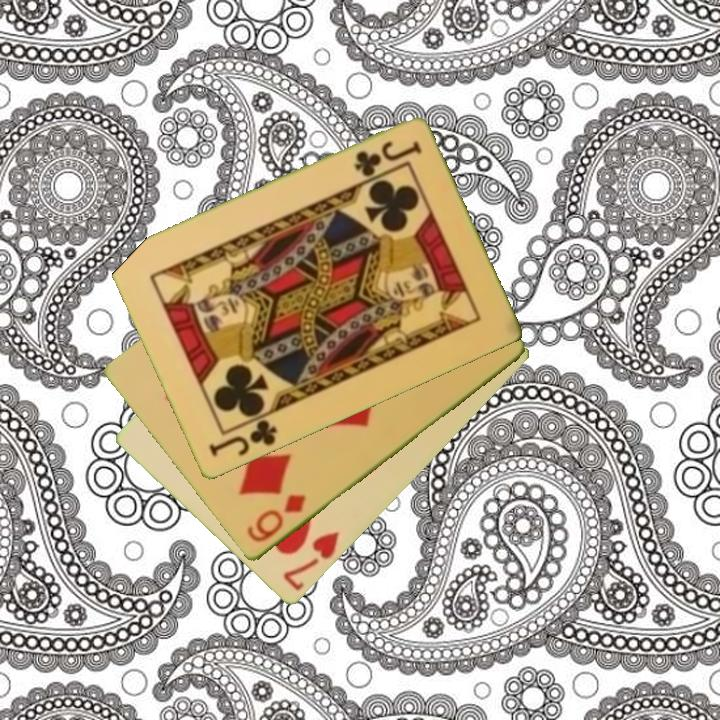6d: (243, 491, 309, 546)
7h: (280, 528, 343, 595)
Jc: (205, 410, 280, 461), (350, 138, 424, 180)
